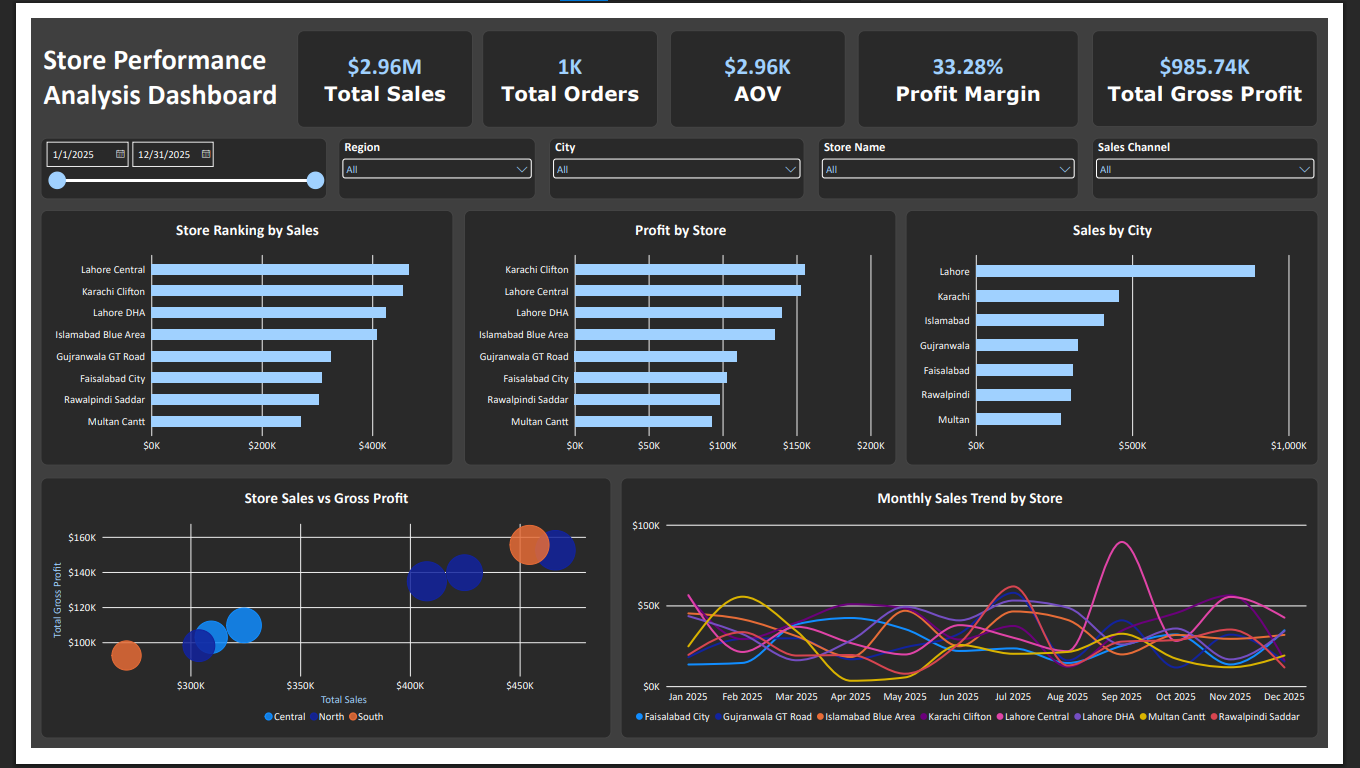

This screenshot's page, from the dashboard's own definition file:
{"tool":"powerbi","page":{"name":"Store Performance","canvas":[1920,1080],"ordinal":2},"visuals":[{"type":"textbox","box":[17.7,33.5,419.8,143.9],"z":0},{"type":"cardVisual","fields":{"Data":["MeasureTable.Total Sales"]},"box":[394.2,17.7,260.1,143.9],"z":1000},{"type":"cardVisual","fields":{"Data":["MeasureTable.Total Orders"]},"box":[668.1,17.7,260.1,143.9],"z":2000},{"type":"cardVisual","fields":{"Data":["MeasureTable.AOV"]},"box":[946,17.7,260.1,143.9],"z":3000},{"type":"cardVisual","fields":{"Data":["MeasureTable.Profit Margin"]},"box":[1223.9,17.7,327.2,143.9],"z":4000},{"type":"cardVisual","fields":{"Data":["MeasureTable.Total Gross Profit"]},"box":[1570.7,17.7,334.5,143.4],"z":5000},{"type":"slicer","fields":{"Values":["DateTable.Date"]},"box":[13.8,177.4,423.7,90.7],"z":6000},{"type":"slicer","fields":{"Values":["RetailSales.Region"]},"box":[455.3,177.4,291.7,90.7],"z":7000},{"type":"slicer","fields":{"Values":["RetailSales.City"]},"box":[766.6,177.4,378.4,90.7],"z":8000},{"type":"slicer","fields":{"Values":["RetailSales.Store_Name"]},"box":[1164.7,177.4,386.3,90.7],"z":9000},{"type":"slicer","fields":{"Values":["RetailSales.Sales_Channel"]},"box":[1570.7,177.4,335,90.7],"z":10000},{"type":"clusteredBarChart","title":"Store Ranking by Sales","fields":{"Category":["RetailSales.Store_Name"],"Y":["MeasureTable.Total Sales"]},"box":[13.8,283.8,610.9,378.4],"z":11000},{"type":"clusteredBarChart","title":"Profit by Store","fields":{"Category":["RetailSales.Store_Name"],"Y":["MeasureTable.Total Gross Profit"]},"box":[640.5,283.8,640.5,378.4],"z":12000},{"type":"clusteredBarChart","title":"Sales by City","fields":{"Y":["MeasureTable.Total Sales"],"Category":["RetailSales.City"]},"box":[1294.8,283.8,610.9,378.4],"z":13000},{"type":"lineChart","title":"Monthly Sales Trend by Store","fields":{"Category":["DateTable.Month Year"],"Y":["MeasureTable.Total Sales"],"Series":["RetailSales.Store_Name"]},"box":[873.1,679.9,1032.7,386.3],"z":14000},{"type":"scatterChart","title":"Store Sales vs Gross Profit","fields":{"X":["MeasureTable.Total Sales"],"Y":["MeasureTable.Total Gross Profit"],"Category":["RetailSales.Store_Name"],"Size":["MeasureTable.Units Sold"],"Series":["RetailSales.Region"]},"box":[13.8,679.9,845.5,386.3],"z":15000}]}

Visuals, with their boxes in screenshot pixels (x1, y1, x2, y2), scaled from the page's 1920x1080 canvas onto the 1360x768 screenshot:
textbox: left=13, top=24, right=310, bottom=126
cardVisual - MeasureTable.Total Sales: left=279, top=13, right=463, bottom=115
cardVisual - MeasureTable.Total Orders: left=473, top=13, right=657, bottom=115
cardVisual - MeasureTable.AOV: left=670, top=13, right=854, bottom=115
cardVisual - MeasureTable.Profit Margin: left=867, top=13, right=1099, bottom=115
cardVisual - MeasureTable.Total Gross Profit: left=1113, top=13, right=1350, bottom=115
slicer - DateTable.Date: left=10, top=126, right=310, bottom=191
slicer - RetailSales.Region: left=323, top=126, right=529, bottom=191
slicer - RetailSales.City: left=543, top=126, right=811, bottom=191
slicer - RetailSales.Store_Name: left=825, top=126, right=1099, bottom=191
slicer - RetailSales.Sales_Channel: left=1113, top=126, right=1350, bottom=191
"Store Ranking by Sales" clusteredBarChart: left=10, top=202, right=442, bottom=471
"Profit by Store" clusteredBarChart: left=454, top=202, right=907, bottom=471
"Sales by City" clusteredBarChart: left=917, top=202, right=1350, bottom=471
"Monthly Sales Trend by Store" lineChart: left=618, top=483, right=1350, bottom=758
"Store Sales vs Gross Profit" scatterChart: left=10, top=483, right=609, bottom=758
